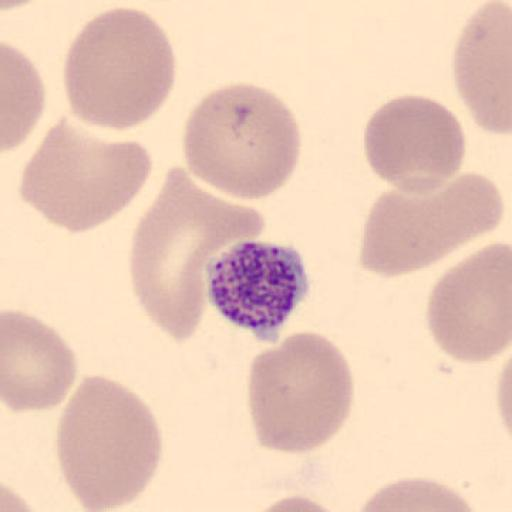Platelet: (205, 236, 316, 344)
RBC: (128, 163, 267, 341), (358, 167, 507, 279), (21, 115, 154, 235), (56, 372, 164, 512), (182, 80, 303, 202), (62, 6, 178, 132), (246, 328, 356, 456), (362, 92, 466, 197), (425, 244, 512, 364), (359, 188, 455, 279), (451, 1, 512, 139), (2, 309, 78, 415), (2, 40, 46, 153), (353, 475, 483, 512), (493, 340, 512, 446), (245, 493, 344, 512), (0, 460, 36, 512), (2, 478, 48, 512), (496, 354, 512, 440), (2, 482, 38, 512), (2, 0, 35, 17), (1, 0, 42, 11)
